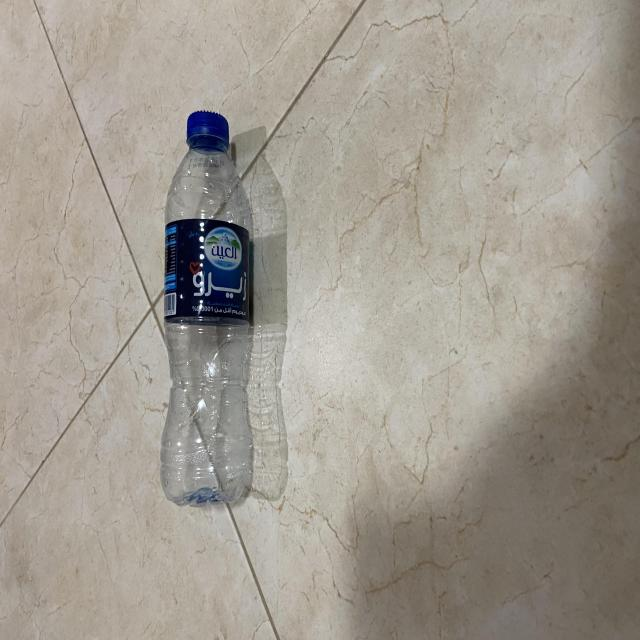plastic: (160, 107, 256, 507)
